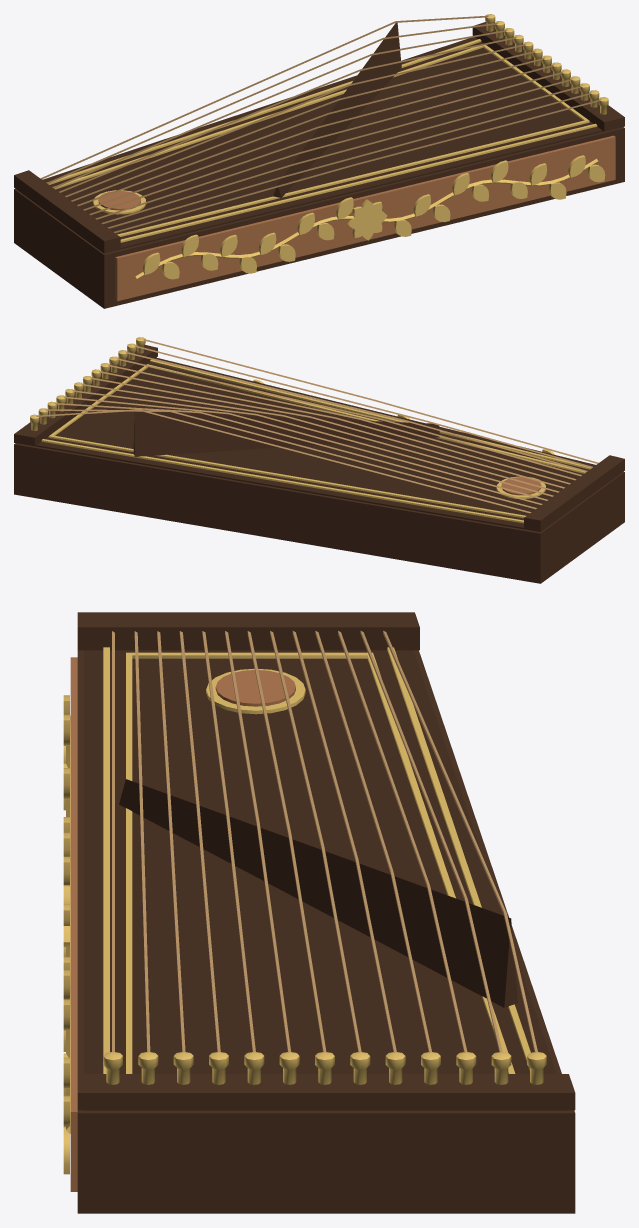
File: gamelar_siter.fbx
The picture shows the model from 3 angles, top to bottom: view 1: azimuth 30°, elevation 25°; view 2: azimuth 150°, elevation 25°; view 3: azimuth 270°, elevation 25°; orthographic projection. The views are drawn at different scales.
Parts seen in each view (by area): view 1: Siter_Mesh; view 2: Siter_Mesh; view 3: Siter_Mesh.
Boxes of the visible parts, x1,y1,x2,y2 form: Siter_Mesh: (14,14,624,308); Siter_Mesh: (14,337,624,583); Siter_Mesh: (63,612,575,1213).
Size of the model in its own units: 0.7 by 0.1354 by 0.3188.
